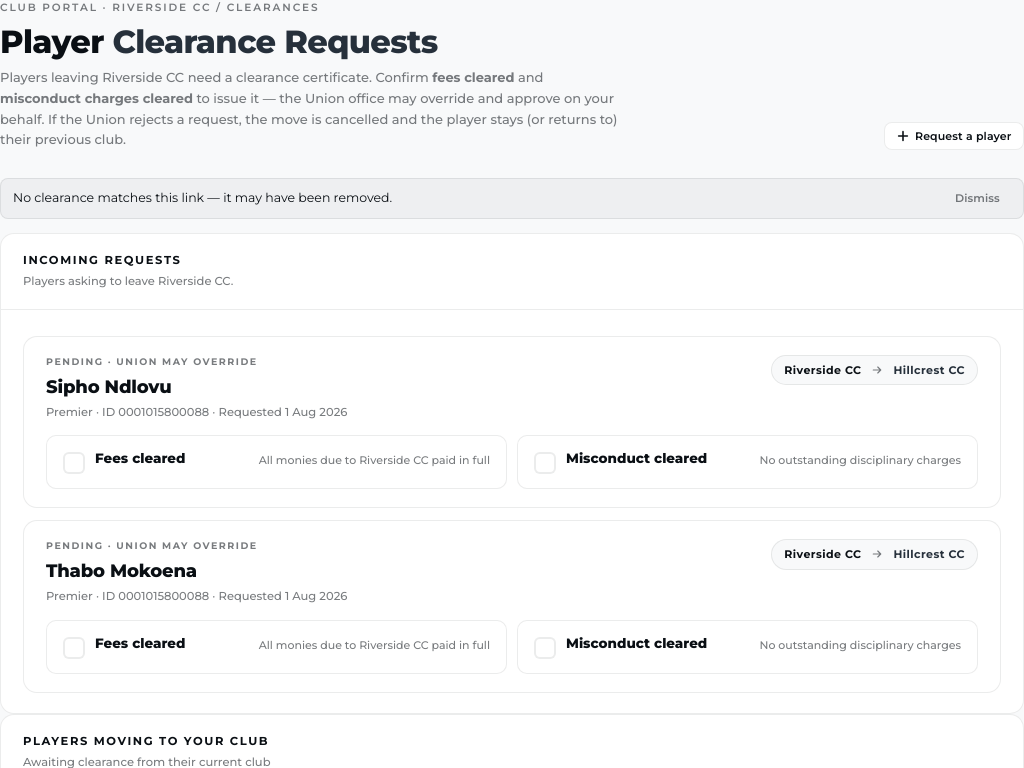
Scenario: ClubClearancesView — a ?clearance=<id> notification deep link › says so when the linked clearance is gone, and the notice can be dismissed
Expected: the text "No clearance matches this link — it may have been removed." is shown, [13, 189, 392, 208]
Expected: the text "Sipho Ndlovu" is shown, [46, 376, 172, 398]
What coordinates should you click on to do the following:
click the button "Dismiss"
I would click on:
 (978, 199)
Its box is [944, 187, 1011, 210].
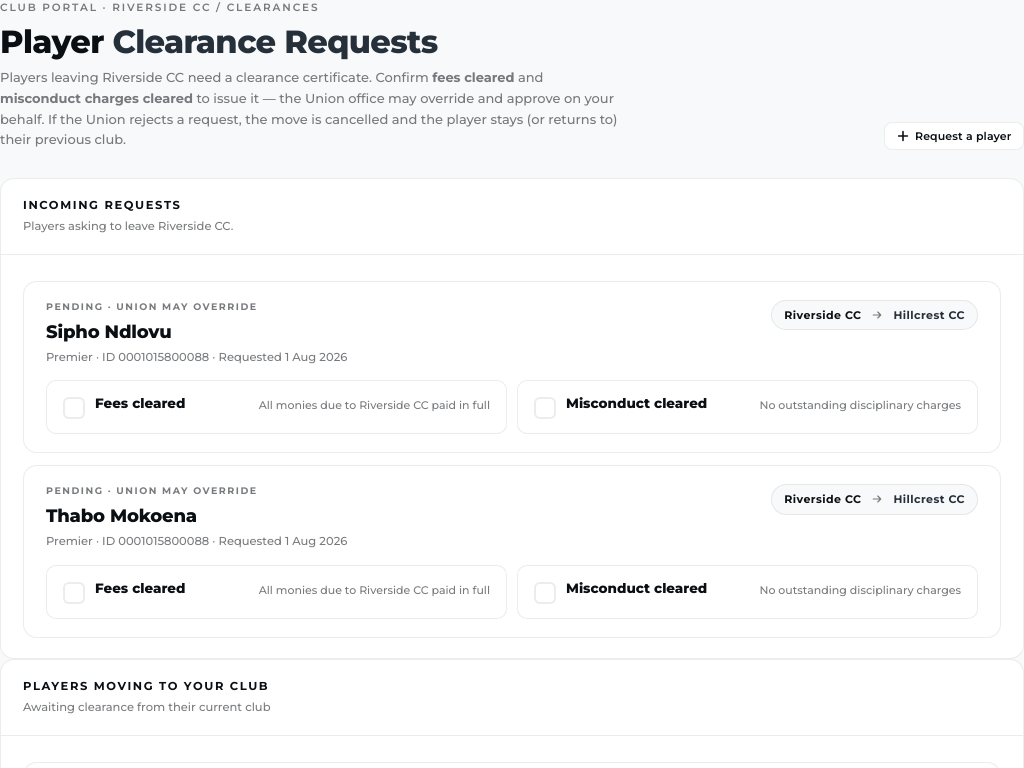
Expected: the text "No clearance matches this link" is gone
